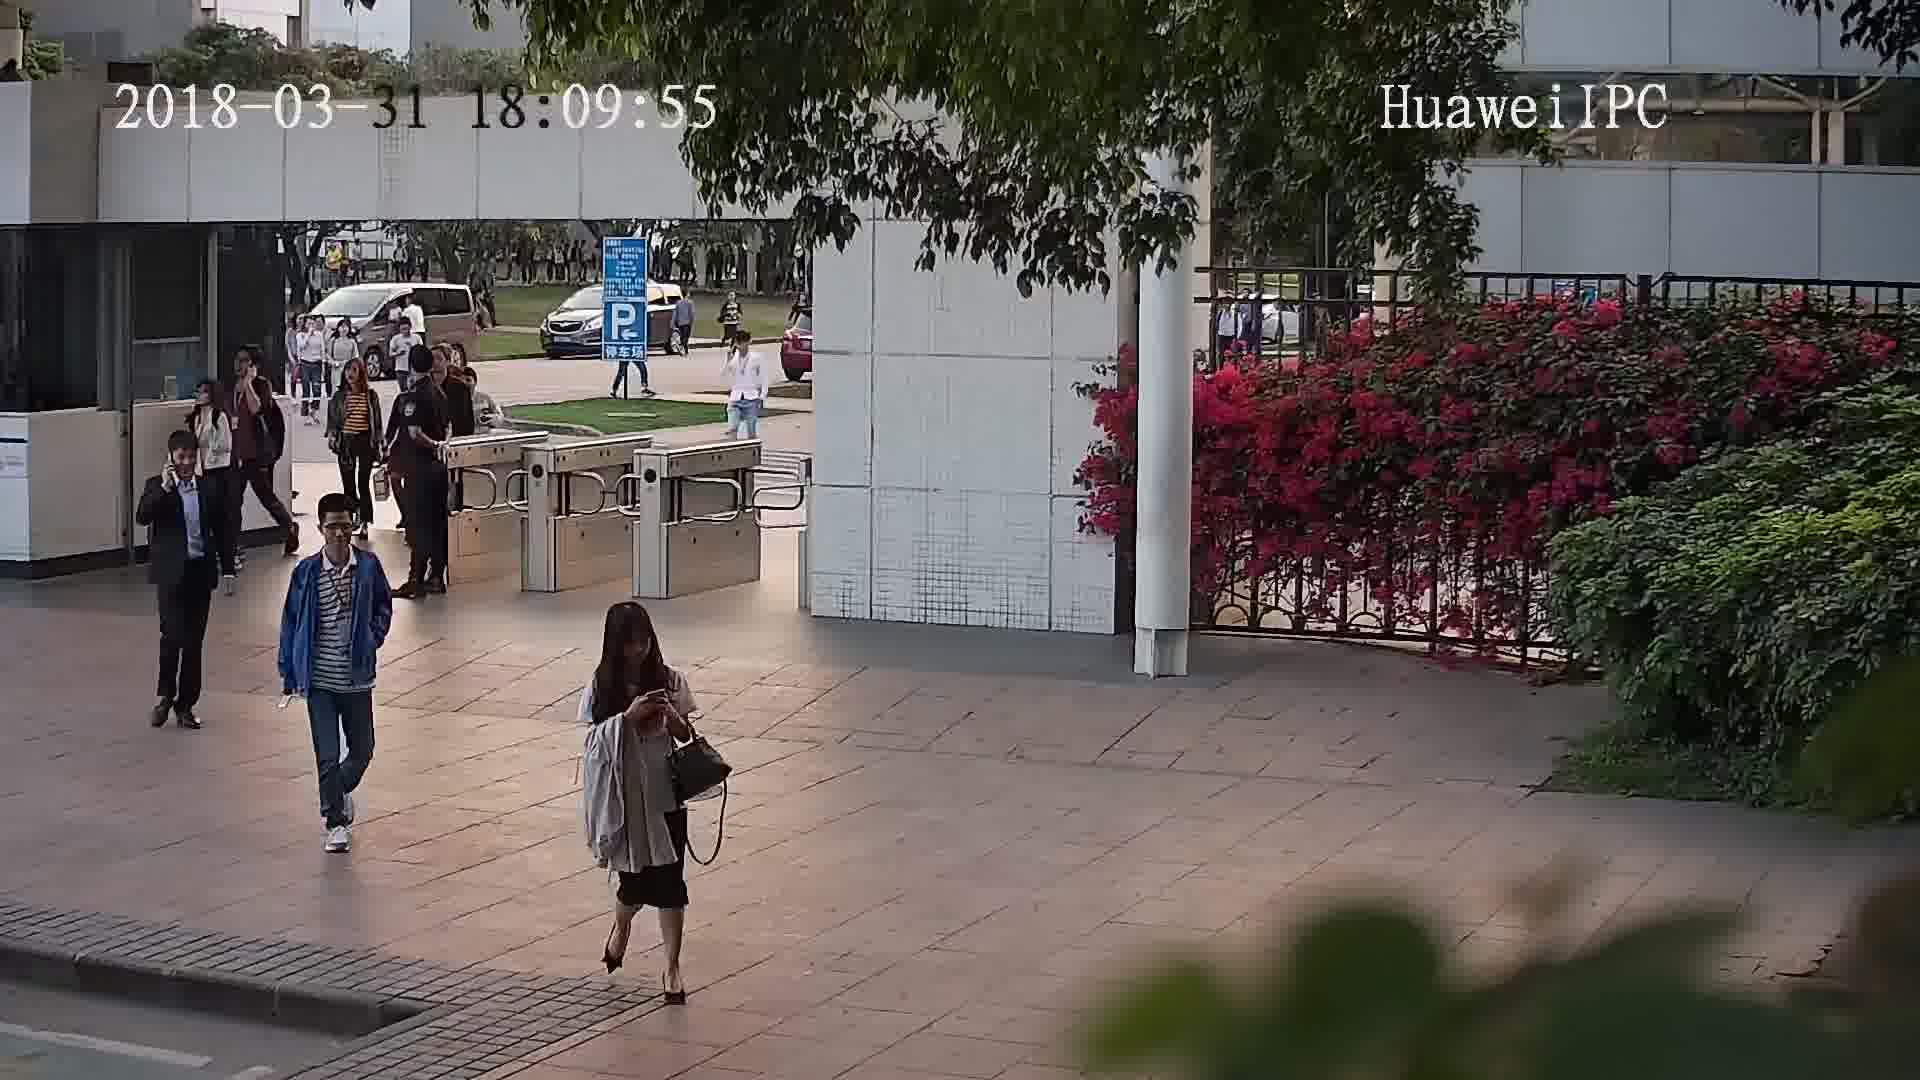face: (615, 622, 656, 663), (318, 509, 356, 553)
person: (586, 600, 680, 701), (293, 486, 382, 583), (142, 427, 216, 507), (398, 344, 448, 409), (224, 342, 269, 399), (188, 373, 233, 429), (329, 354, 375, 403), (437, 339, 476, 387), (723, 325, 764, 368), (386, 314, 419, 345), (293, 309, 322, 343), (327, 315, 358, 345), (671, 282, 693, 306), (719, 288, 739, 309)
